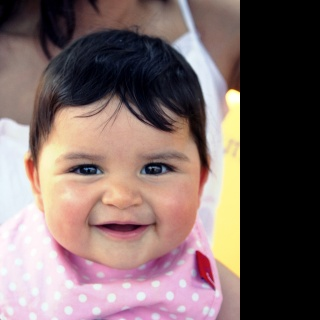without_mask: (37, 94, 201, 270)
